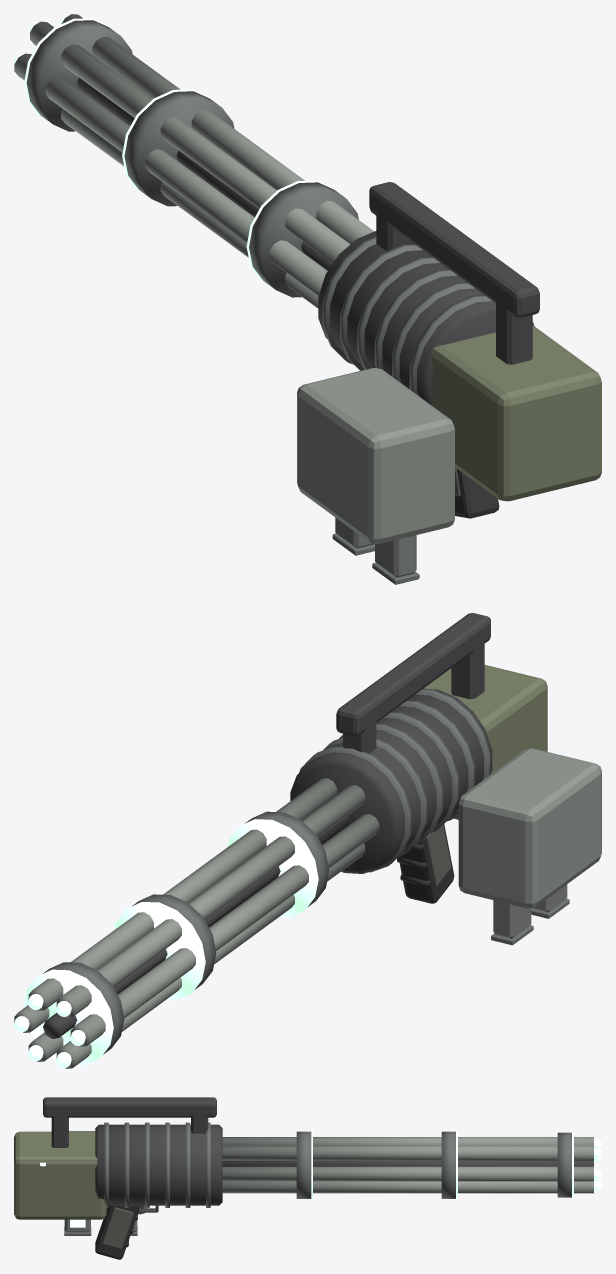
The model's file is plasma_minigun.glb.
3 views of the same model, one above another, from view 1: azimuth 30°, elevation 25°; view 2: azimuth 150°, elevation 25°; view 3: azimuth 270°, elevation 25° (orthographic). The views are drawn at different scales.
Parts seen in each view (by area): view 1: Plasma_minigun, MinigunBarrels; view 2: Plasma_minigun, MinigunBarrels; view 3: Plasma_minigun, MinigunBarrels.
Boxes of the visible parts, bbox=[...] form: Plasma_minigun: bbox=[297, 182, 601, 584]; MinigunBarrels: bbox=[14, 14, 373, 308]; Plasma_minigun: bbox=[290, 613, 601, 945]; MinigunBarrels: bbox=[14, 778, 379, 1068]; Plasma_minigun: bbox=[14, 1097, 222, 1259]; MinigunBarrels: bbox=[222, 1131, 601, 1199].
Size of the model in its own units: 0.2429 by 0.3095 by 1.01.
